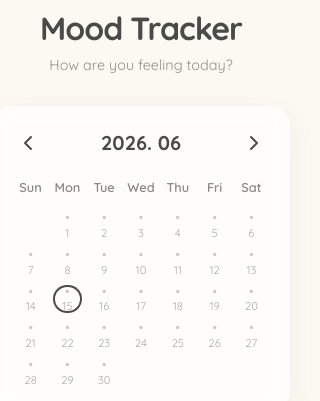
Test case: Mood Tracker App › should allow navigating to previous and next months
# Next month (July)
Click the button with test id "next-month-btn": [254, 143] box [242,131,266,155]
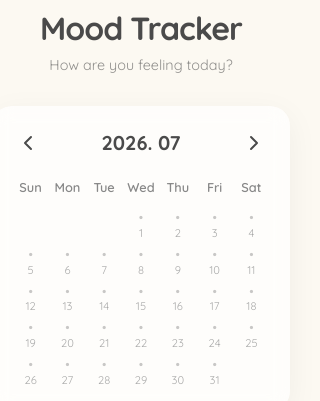
Expected: the text with test id "current-month" reads "2026. 07", [101,130,180,155]
# Prev month (back to June)
Click the button with test id "prev-month-btn": [28, 143] box [16,131,40,155]
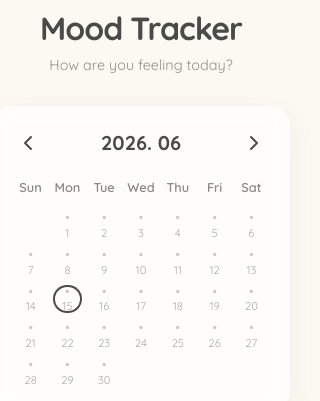
Expected: the text with test id "current-month" reads "2026. 06", [101,130,181,155]
